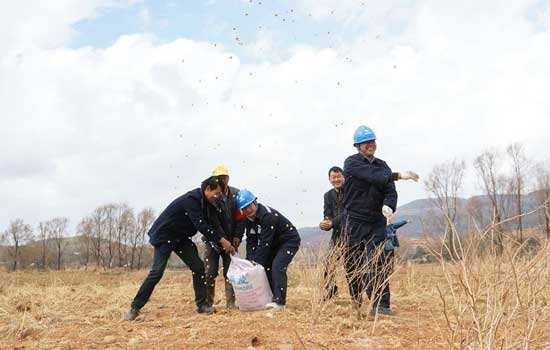blue: (352, 125, 378, 156), (234, 187, 258, 218)
none: (201, 177, 223, 203), (326, 166, 346, 189)
yellow: (211, 166, 229, 188)
